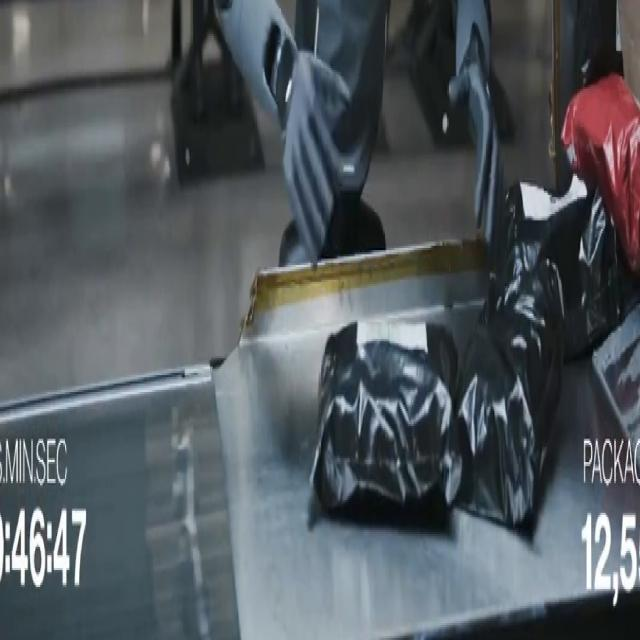package: (311, 320, 460, 517), (455, 261, 563, 529), (496, 179, 623, 362), (562, 75, 639, 273), (593, 306, 639, 476), (617, 0, 639, 99)
